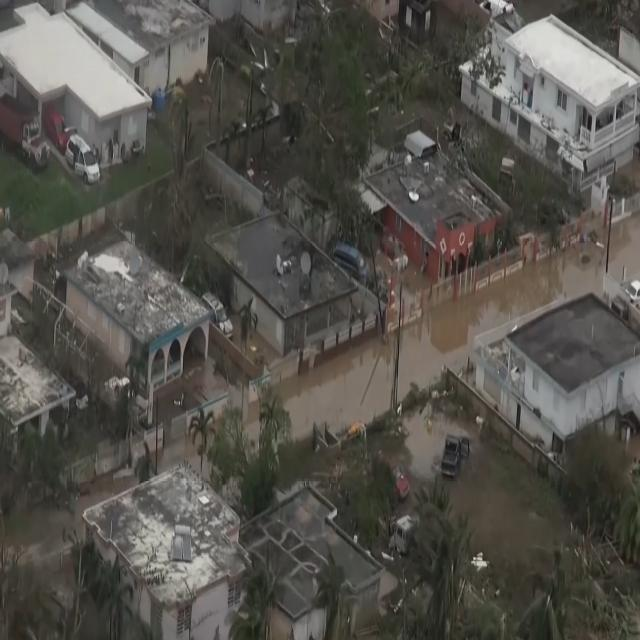flood: (280, 213, 640, 438), (57, 472, 142, 528), (7, 510, 67, 559), (406, 425, 445, 476), (409, 414, 469, 436), (159, 440, 199, 466), (247, 405, 259, 441)
house: (491, 0, 640, 212), (482, 278, 640, 472), (0, 0, 153, 187), (85, 459, 252, 624), (66, 243, 220, 402), (201, 207, 361, 346), (239, 484, 381, 630), (362, 150, 507, 276), (108, 0, 216, 107)
